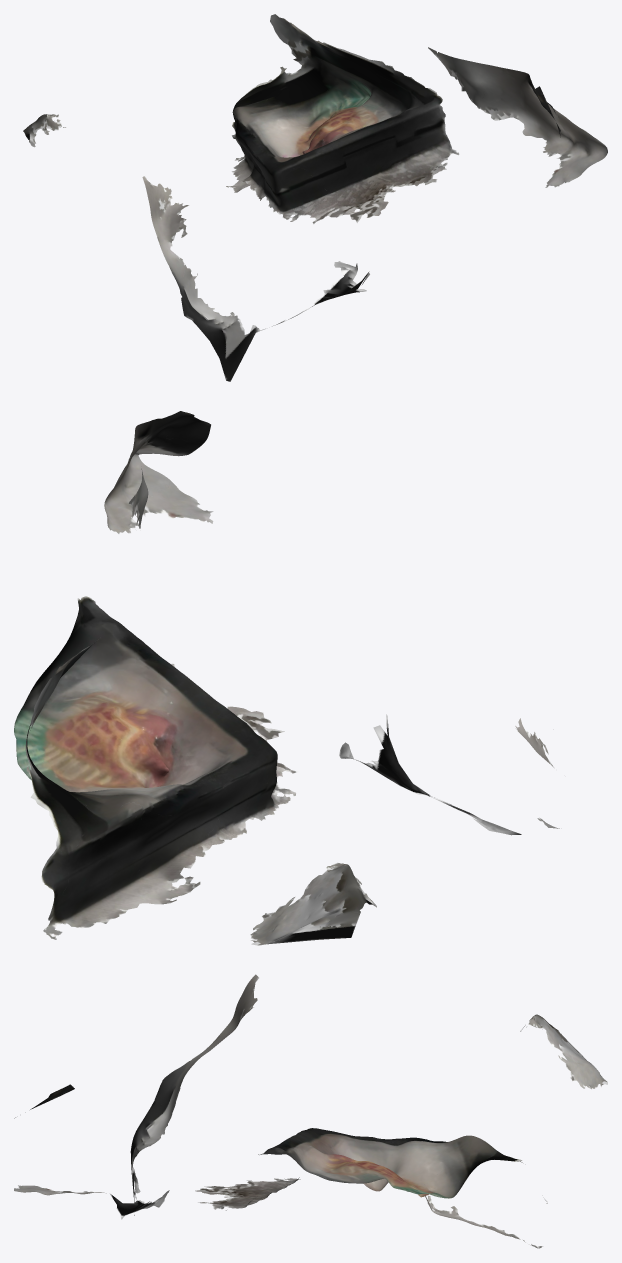
3 views of the same model, one above another, from view 1: azimuth 30°, elevation 25°; view 2: azimuth 150°, elevation 25°; view 3: azimuth 270°, elevation 25° (orthographic). The views are drawn at different scales.
Size of the model in its own units: 0.7784 by 0.4907 by 0.8786.
1 material, 1 textured.
